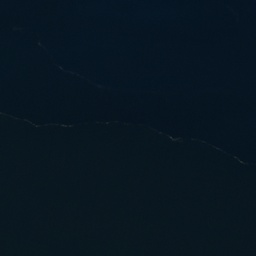Marine Debris: (0, 110, 184, 143), (232, 155, 245, 165)
